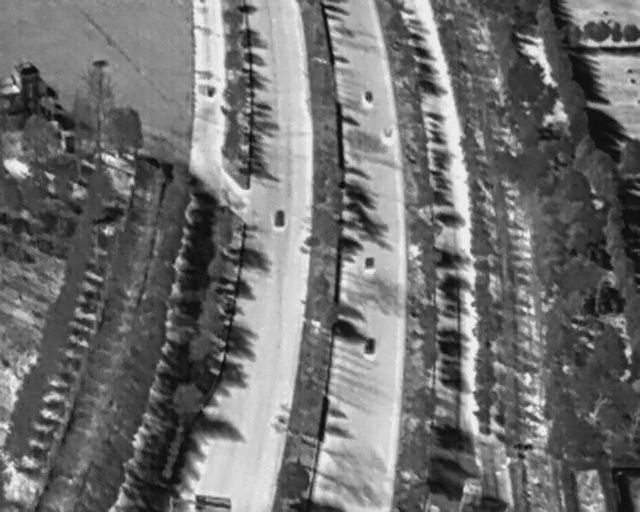Car: (273, 209, 285, 228), (365, 336, 375, 352), (364, 91, 373, 104), (365, 256, 372, 270)
